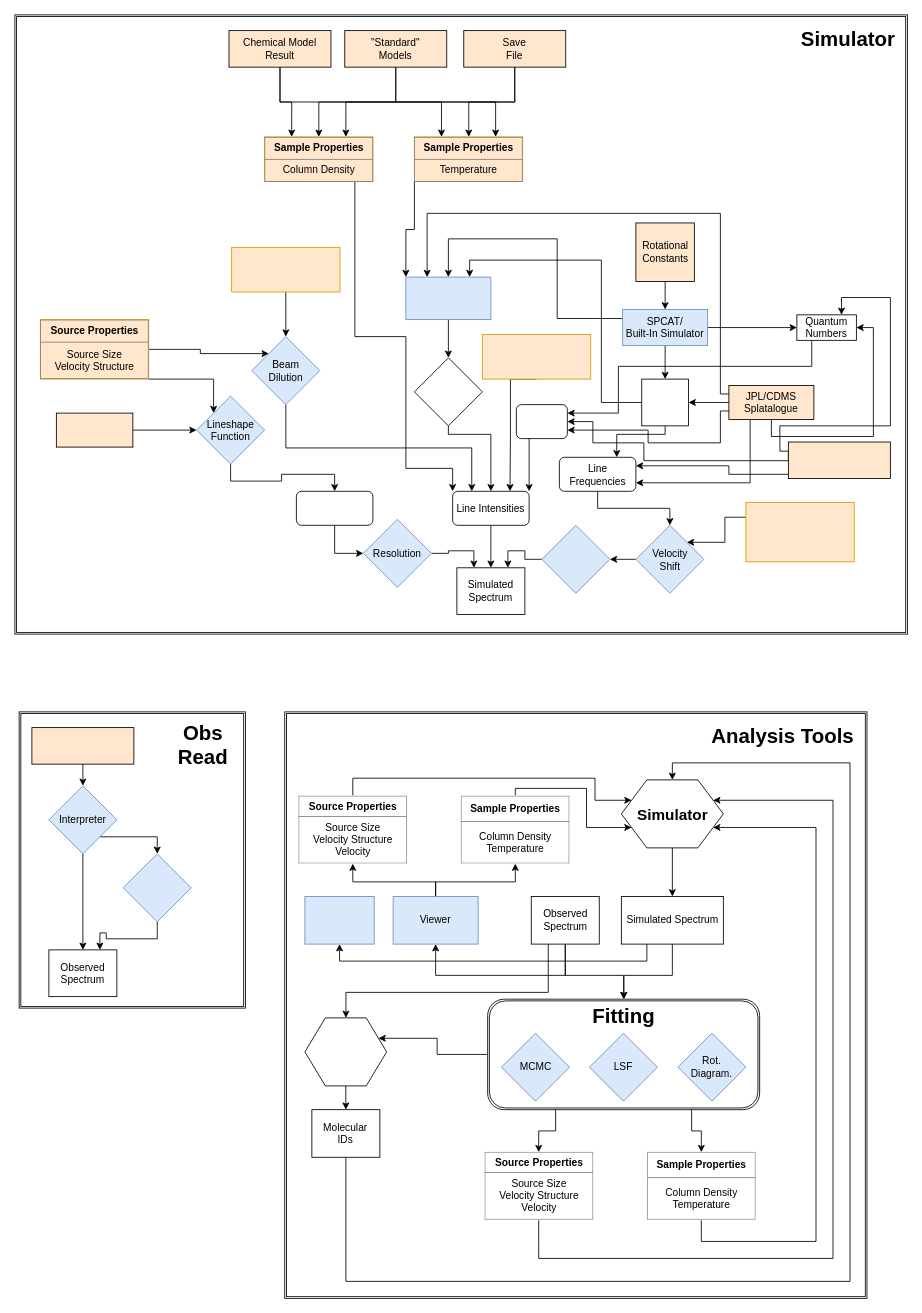
Image size: 922x1313. Some labels were removed from this diagram. The shapes that lost their labels are listed below. From the top down, each one's centre as x and y in pixels, then its label:
the point at 285,269: Telescope Dish Size
the point at 448,298: Partition Function Calculator
the point at 536,356: Telescope Aperture Efficiency
the point at 448,391: Partition Function
the point at 664,402: Energy Levels
the point at 94,429: Instrument Properties
the point at 541,421: S ij mu 2
the point at 839,460: Line List (Nebulous Format)
the point at 334,507: Line Shapes
the point at 799,532: Source Properties Velocity
the point at 575,558: Unit Convert
the point at 82,745: Input Spectrum
the point at 156,887: Resample
the point at 339,920: Stack Matched Filter
the point at 345,1051: PySpec Tools
